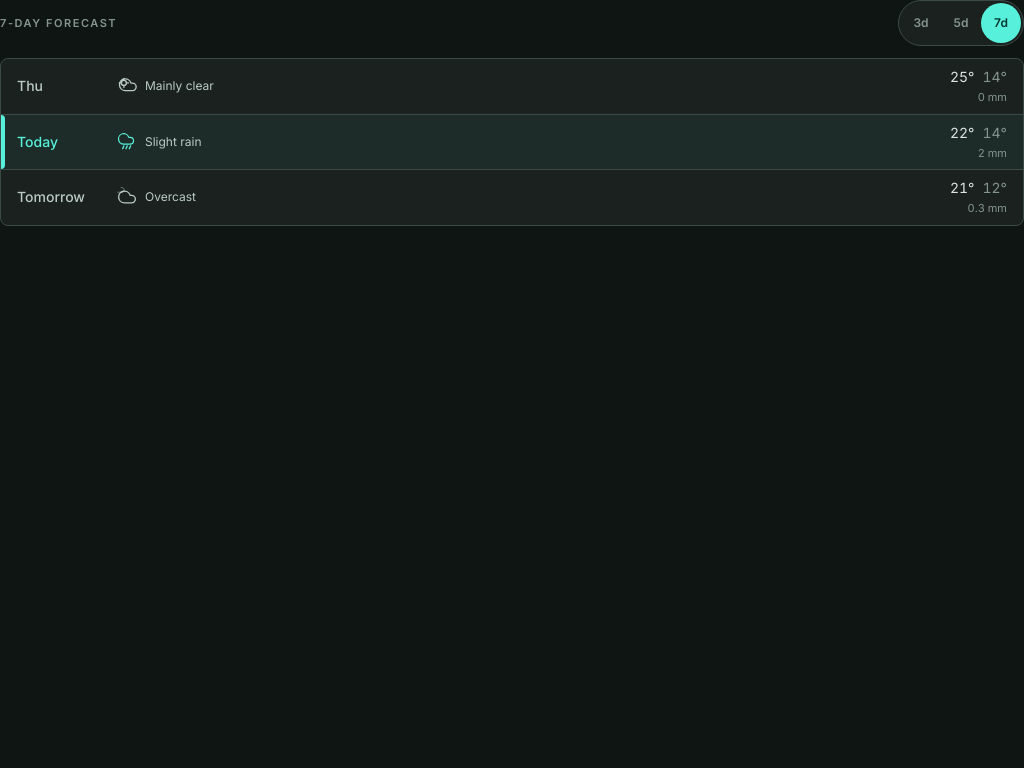
Scenario: ForecastGrid › filters hourly rows for a day that has coverage
Click the button with aria-label "Slight rain, high". click: point(37, 141)
box: [1,114,1023,169]
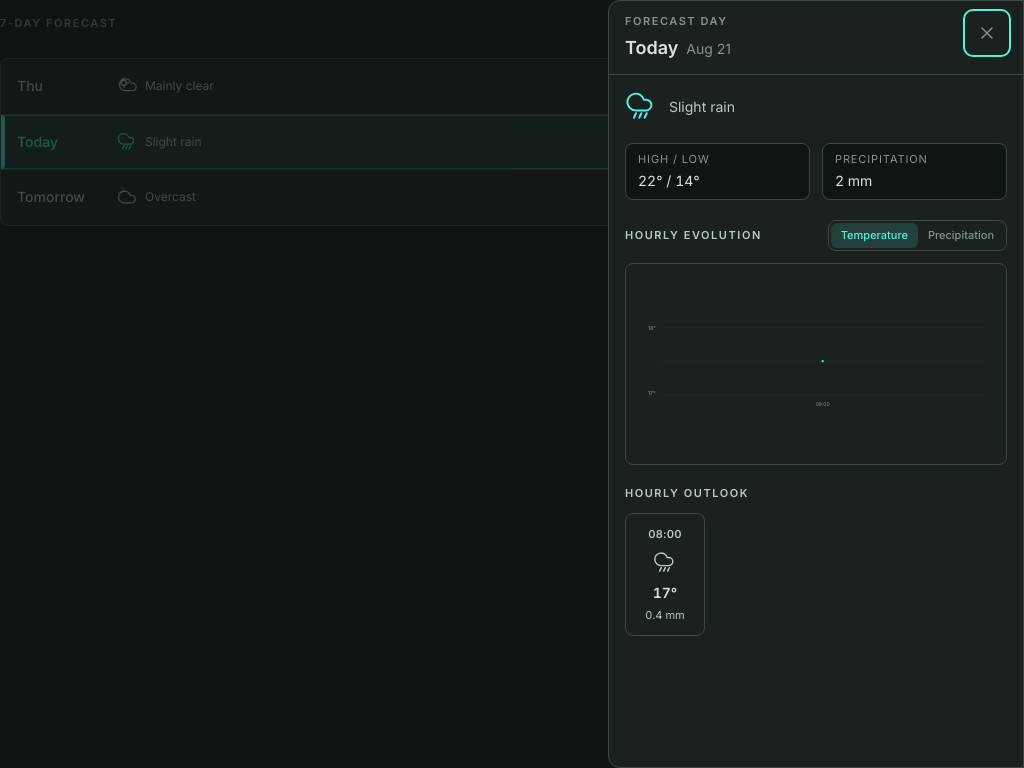
Result: the dialog is shown at [608,0,1023,767]
Result: the element "Hourly evolution" is shown at [625,220,1007,465]
